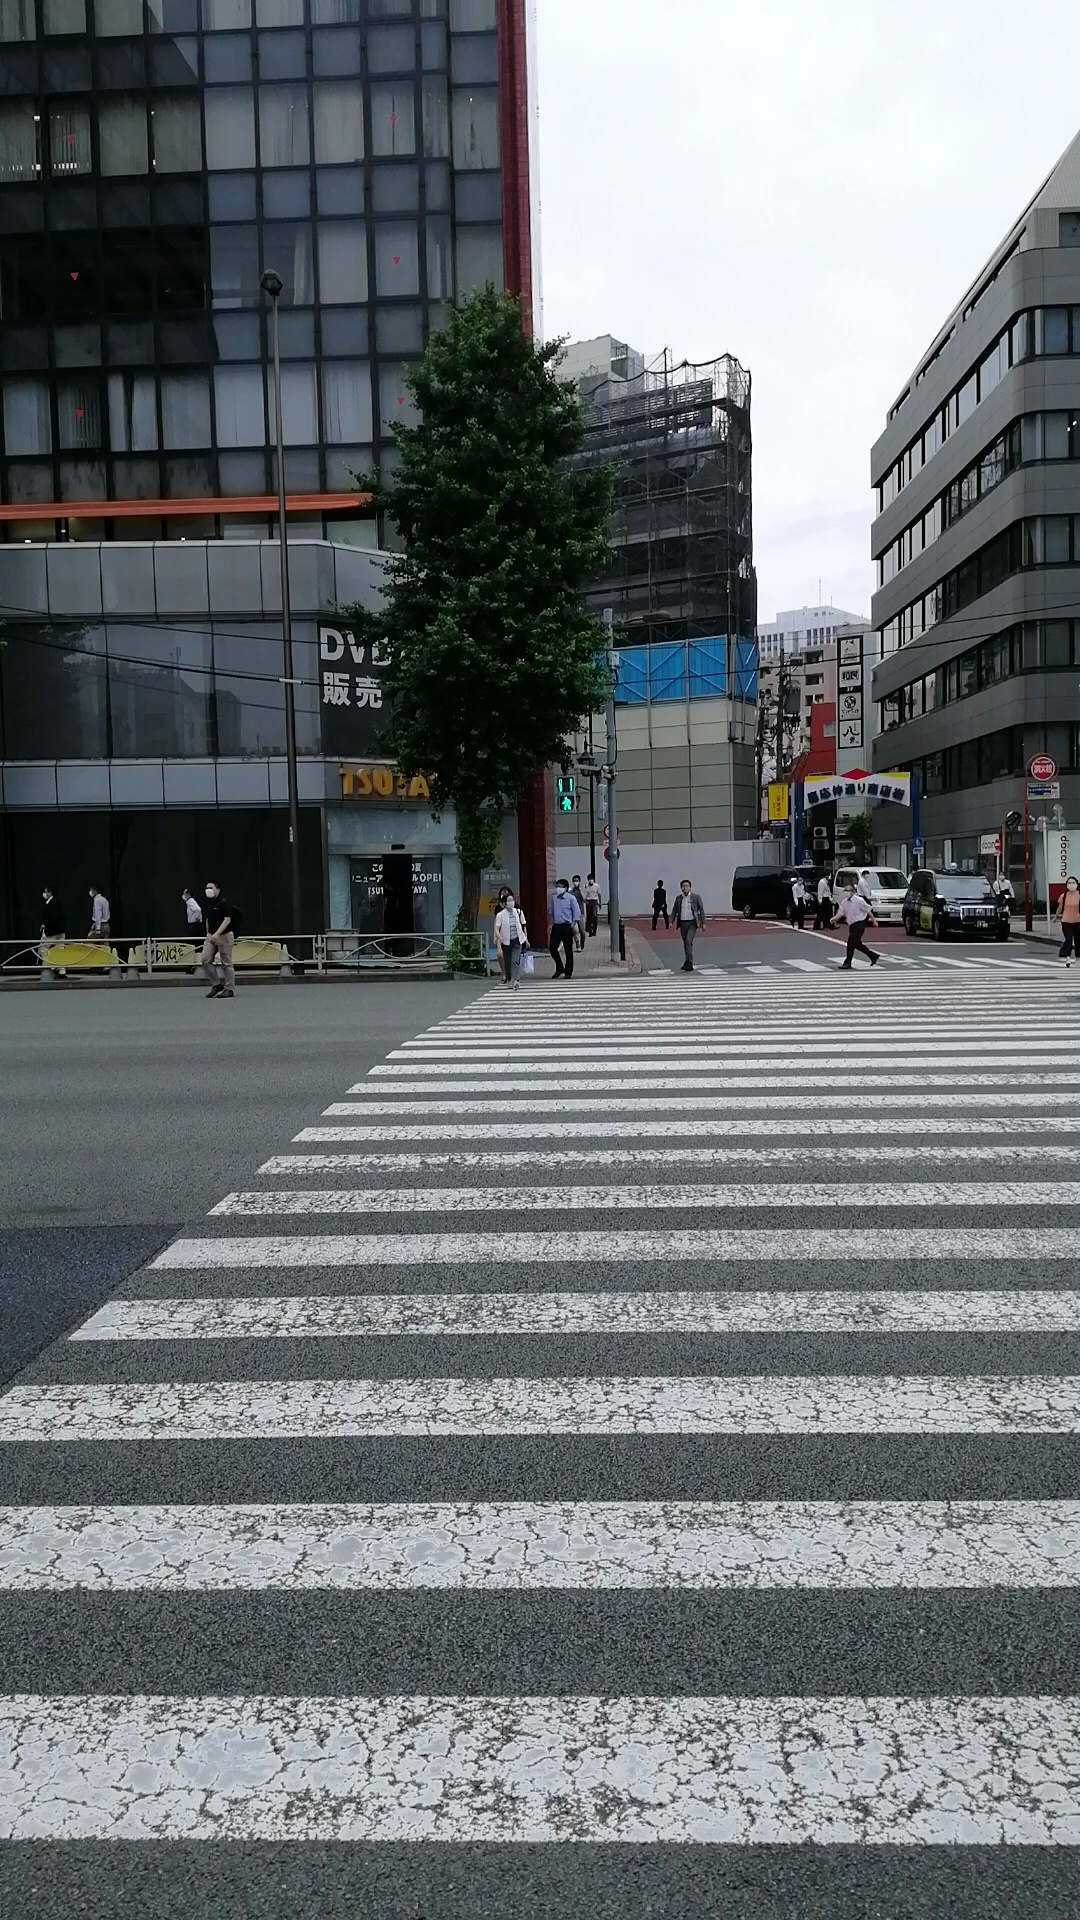green: (554, 771, 578, 818)
